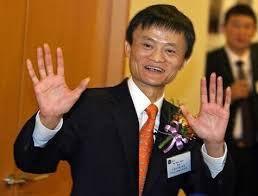hand: (26, 43, 90, 116), (182, 73, 232, 142)
